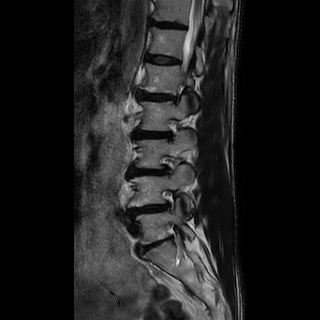LFS0: (160, 112, 187, 146), (154, 183, 179, 217)
